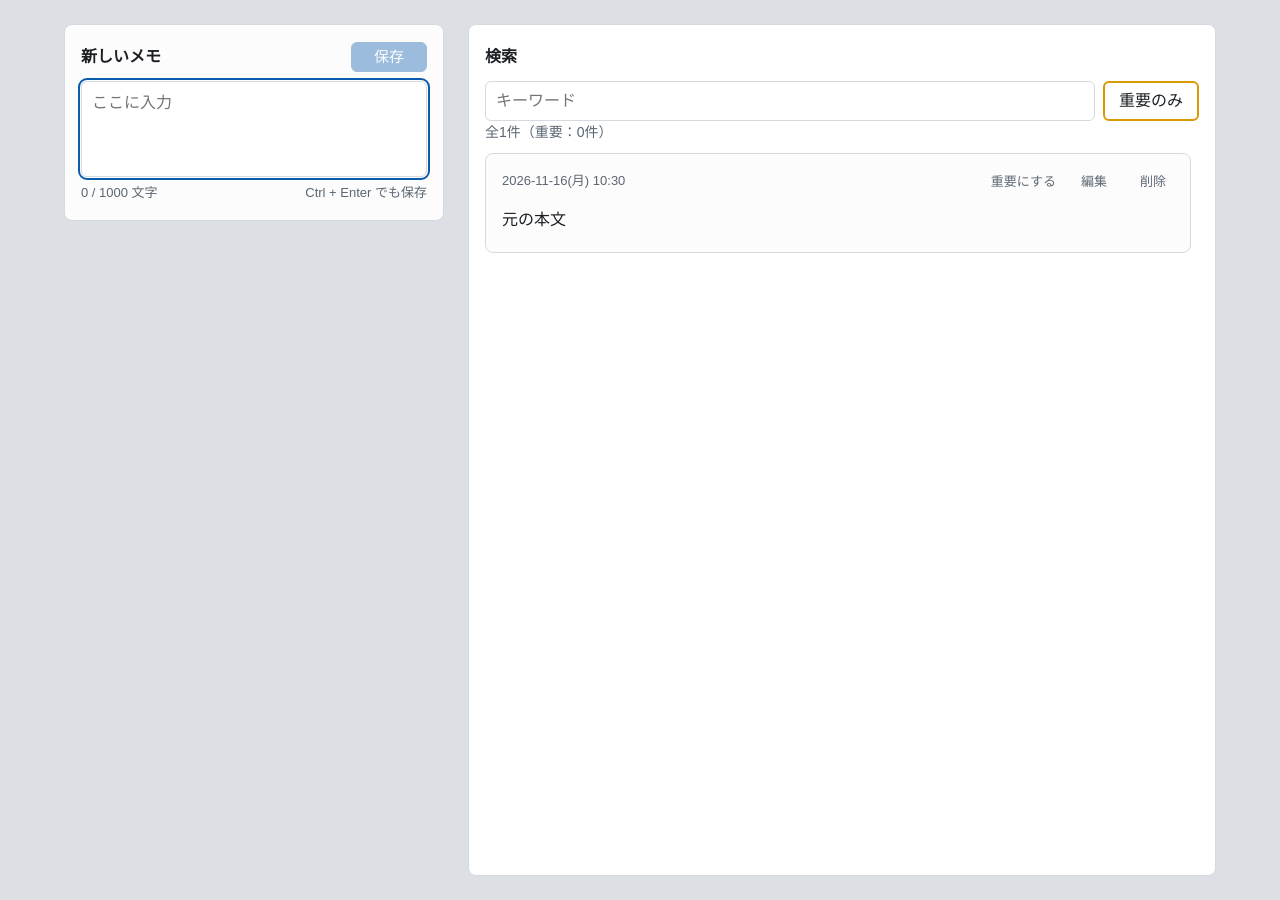
編集（F4） › Ctrl+Enter でも保存できる
Expected: the text "元の本文" is shown, left=502, top=211, right=566, bottom=228
Click the button "編集": (1094, 182) left=1070, top=169, right=1118, bottom=195
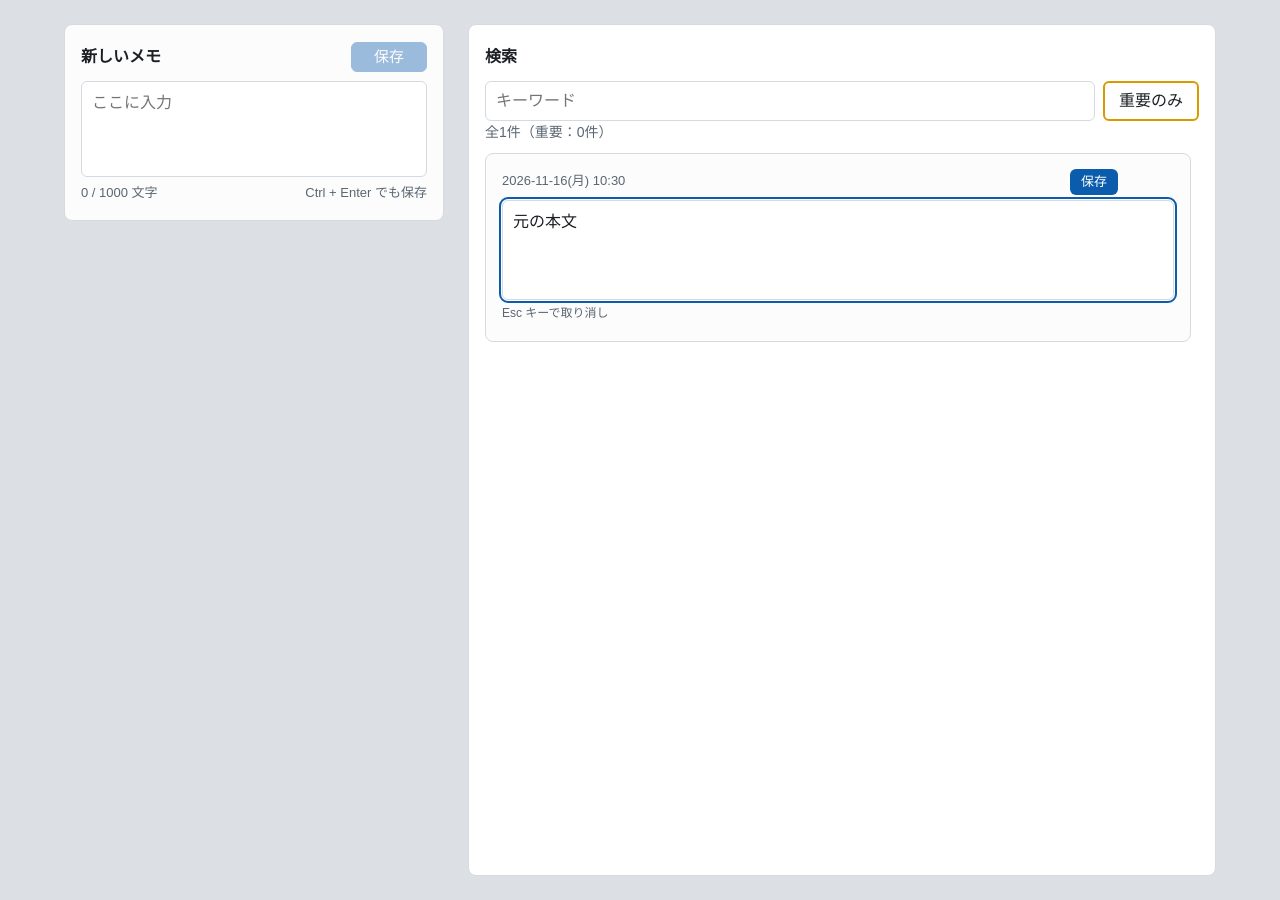
In the text box named "メモの本文を編集": (838, 250) left=502, top=200, right=1174, bottom=300, type "（追記）"
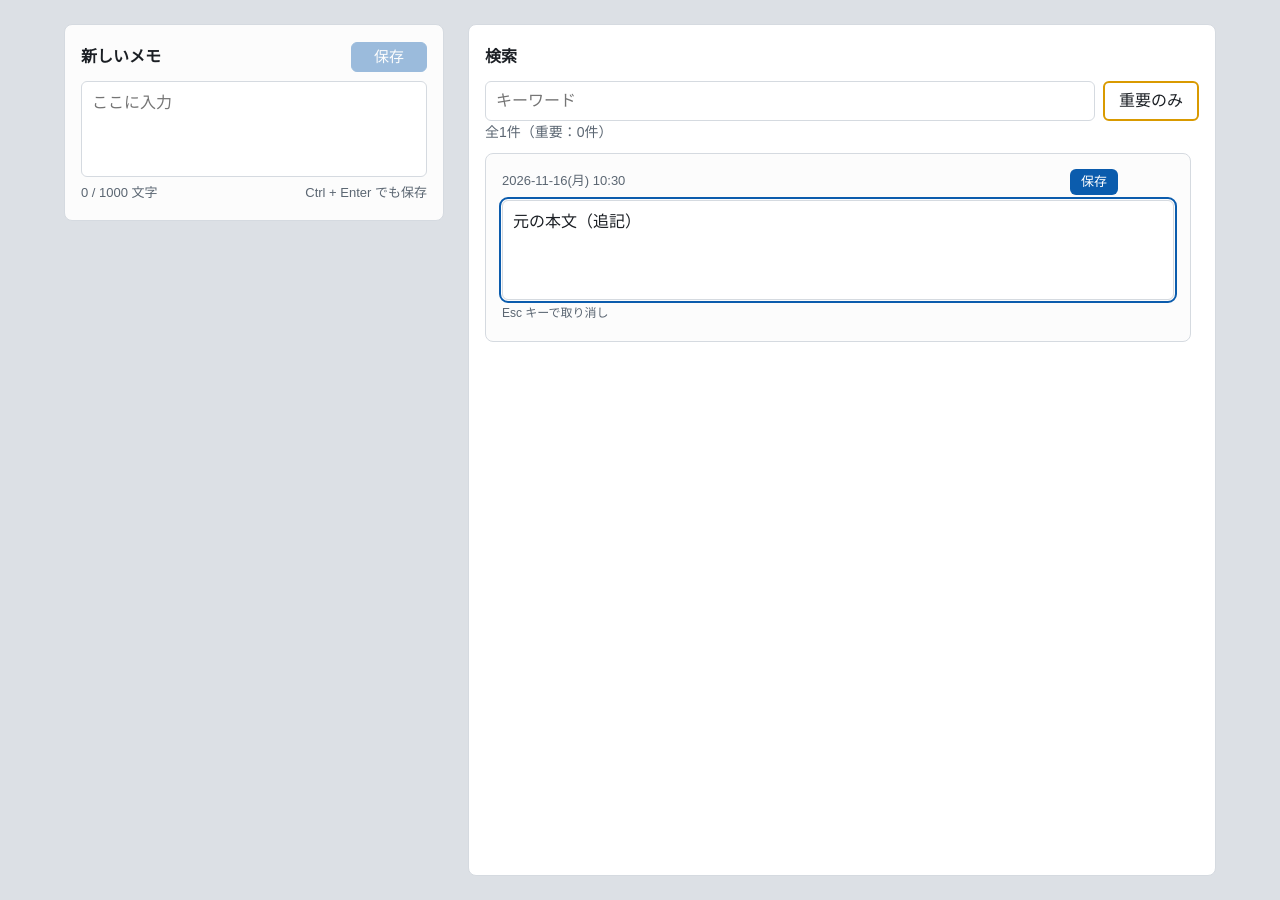
Type keys "{Control>}{Enter}{/Control}"
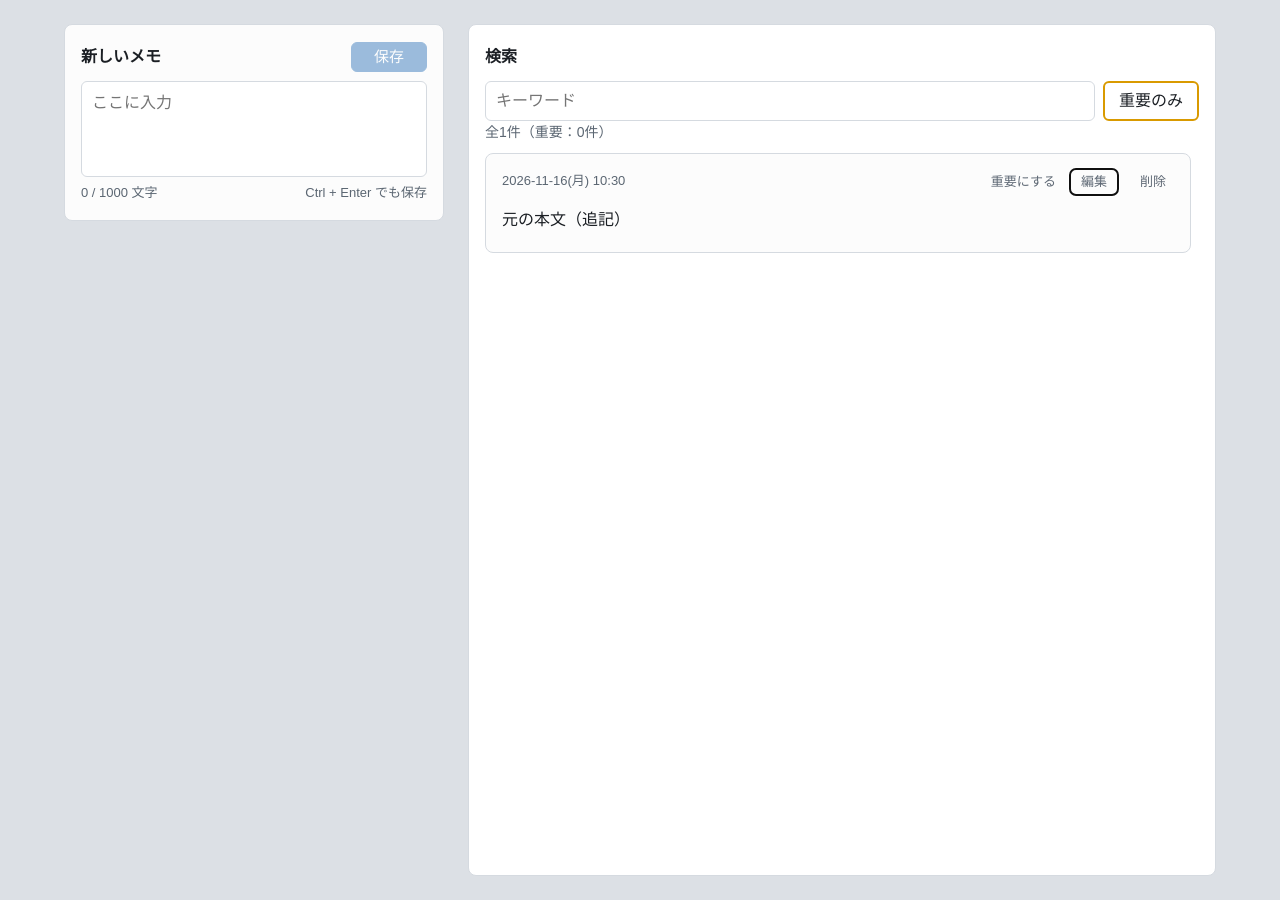
Expected: the text "元の本文（追記）" is shown, left=502, top=211, right=630, bottom=228
